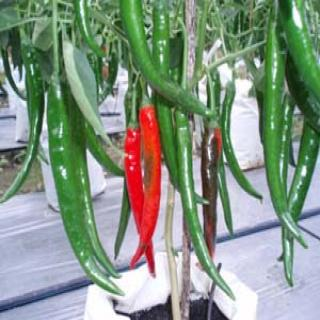Cabai Hijau: (15, 47, 123, 302), (276, 1, 320, 145)
